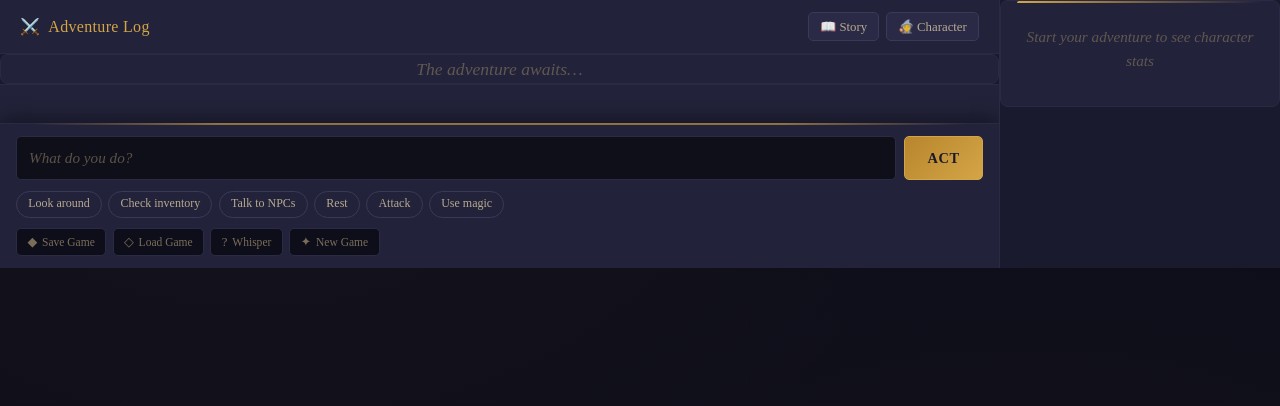
it: game flow — submitting input › submits a turn and processes the SSE stream
Submit a turn to trigger the SSE connection
Type "Explore the cave" into the field with placeholder "What do you do?".
click(456, 158); type("Explore the cave")  # box [16, 136, 896, 180]
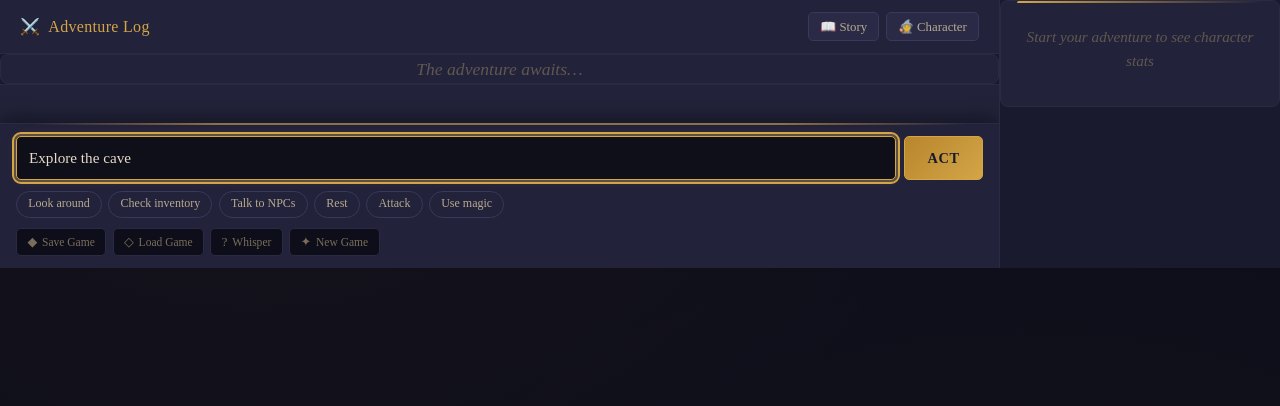
Click the button with aria-label "submit action".
click(944, 158)  # box [904, 136, 983, 180]
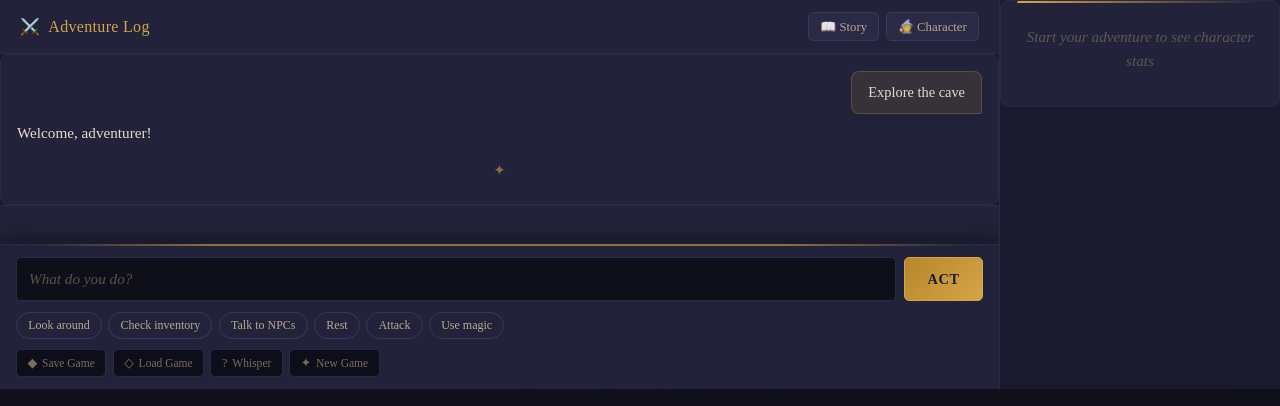
Expected: the text "Welcome, adventurer!" is shown, [17, 124, 152, 141]
